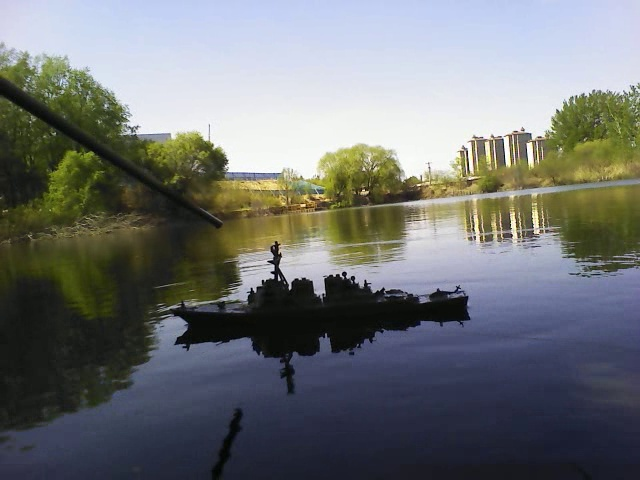warship: (161, 247, 474, 332)
